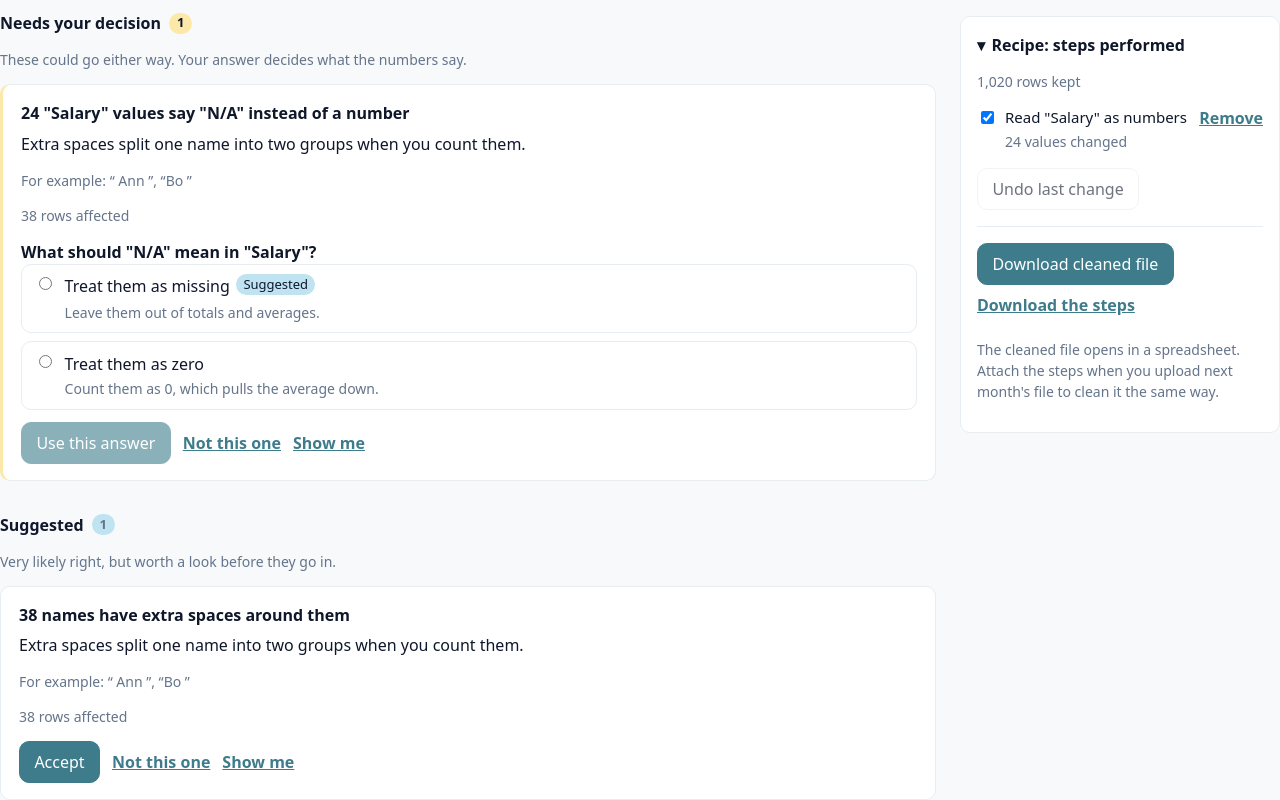
Scenario: ReviewPage › accepts a suggestion and follows the new recipe
(page scrolled)
Click the button "Accept" at (60, 762), box [19,741,100,783]
(page scrolled)
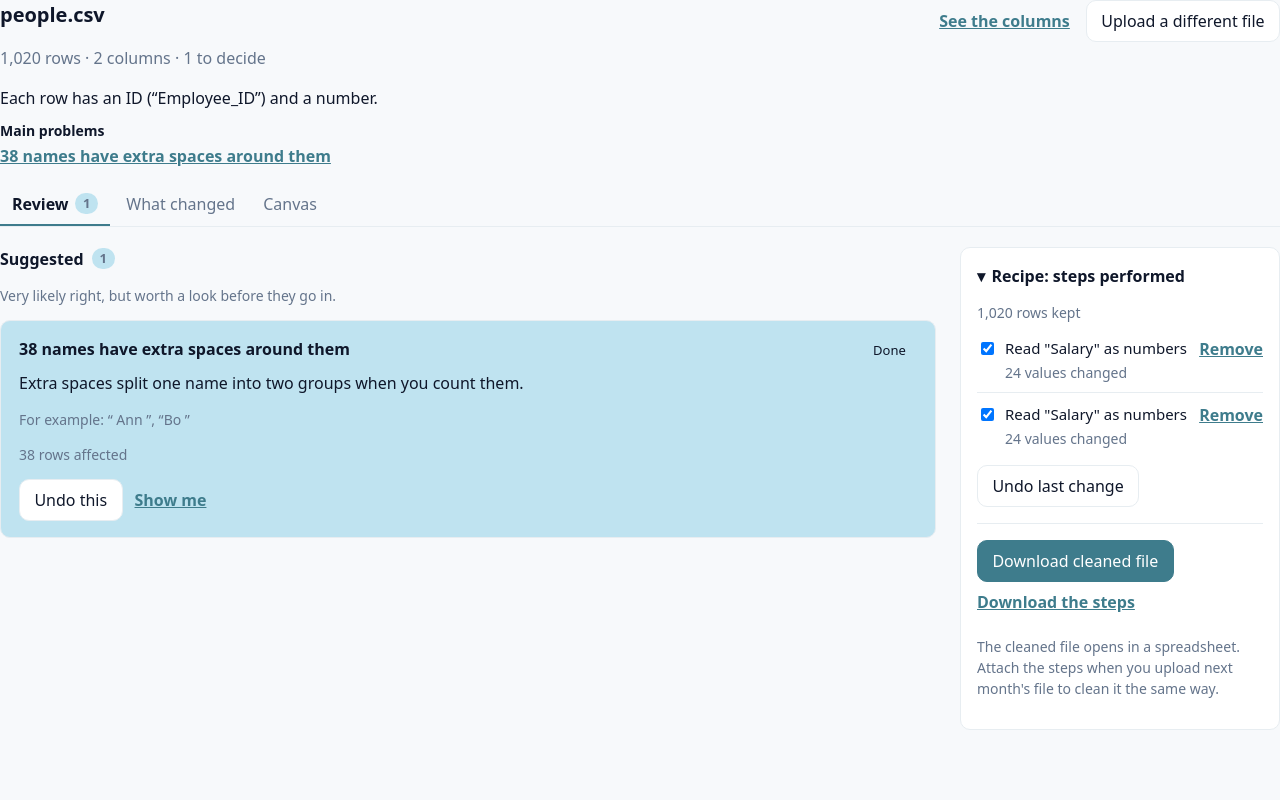
Now the text "Done" is shown, box [866,340,913,361]
Now the button "Undo last change" is enabled, box [977,465,1139,507]
